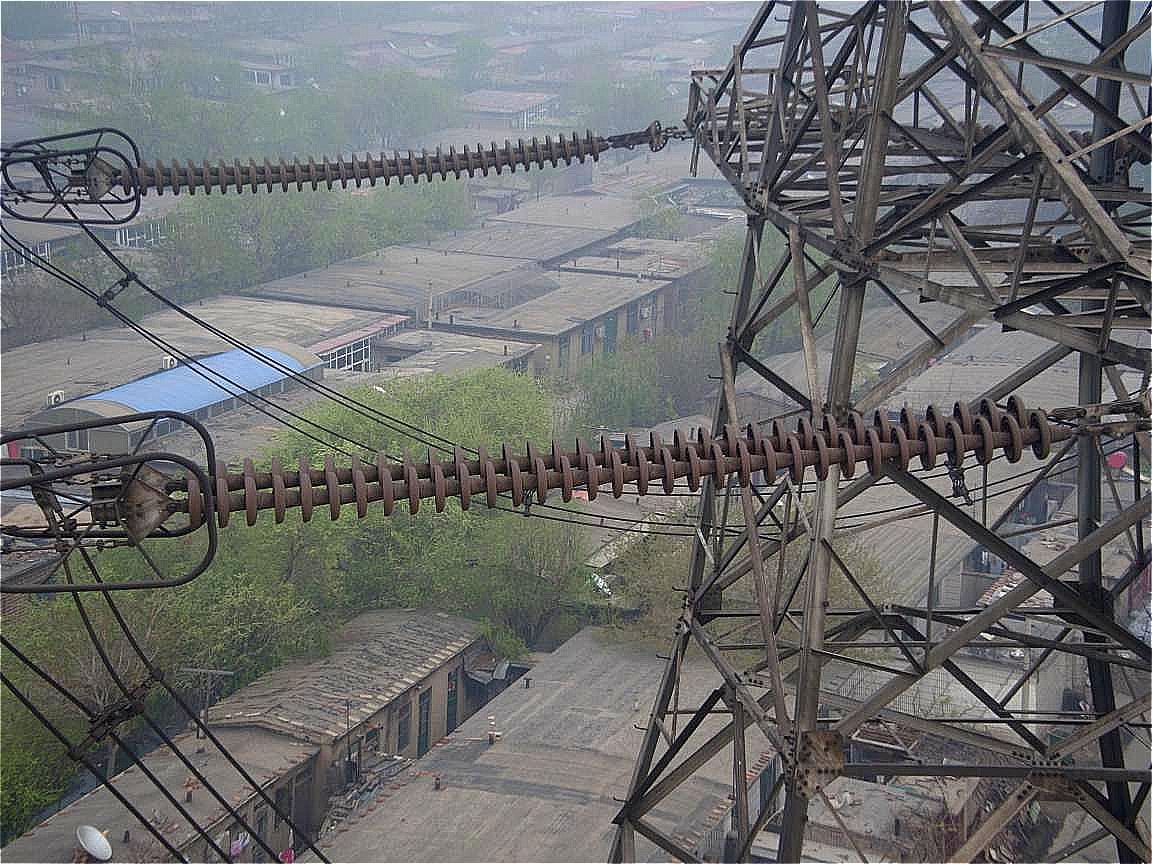insultor1: (184, 389, 1054, 526), (123, 126, 603, 194)
